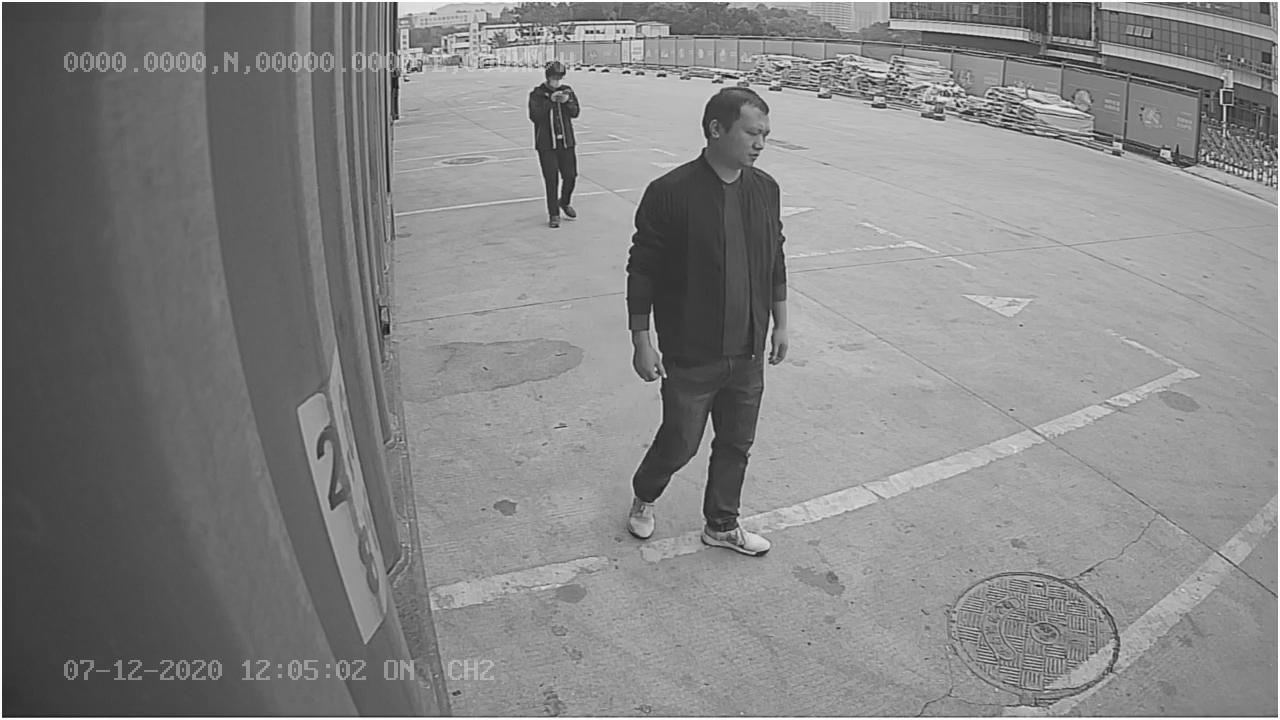person: (624, 83, 792, 558)
